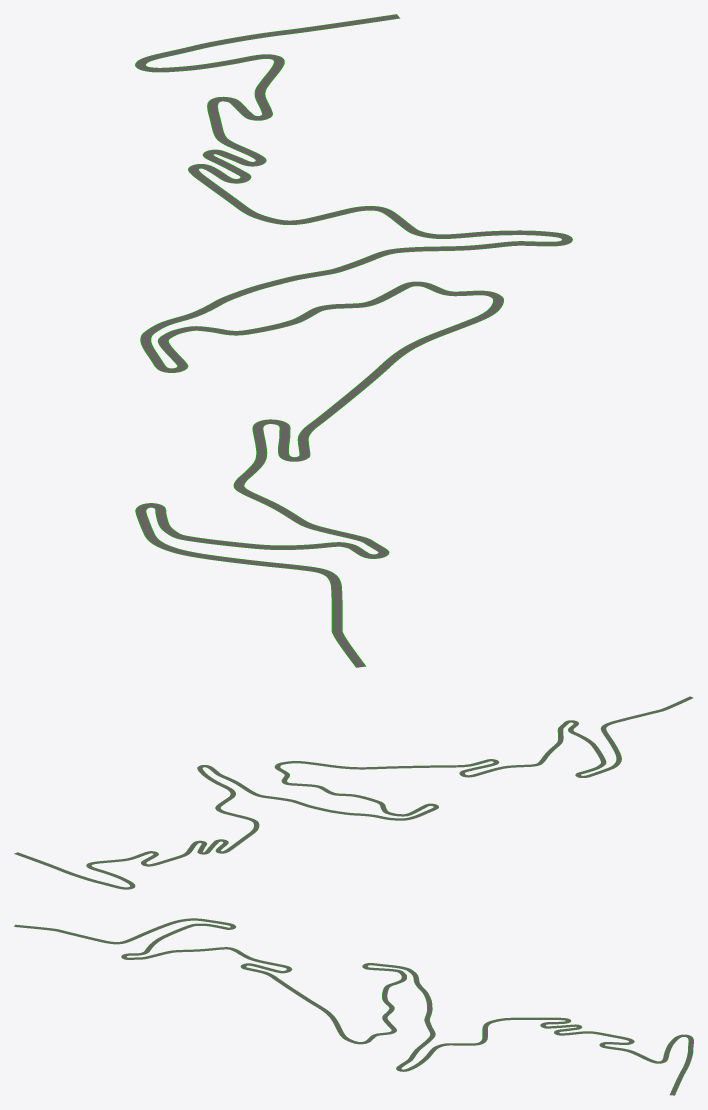
File: Akina.fbx
The picture shows the model from 3 angles, top to bottom: view 1: azimuth 30°, elevation 25°; view 2: azimuth 150°, elevation 25°; view 3: azimuth 270°, elevation 25°; orthographic projection. The views are drawn at different scales.
Parts seen in each view (by area): view 1: Plane; view 2: Plane; view 3: Plane.
Part boxes in pixels (x1,y1,x2,y2): Plane: [135, 14, 572, 667]; Plane: [14, 696, 693, 889]; Plane: [14, 918, 693, 1095].
Size of the model in its own units: 51698 by 0.0138 by 83831.
